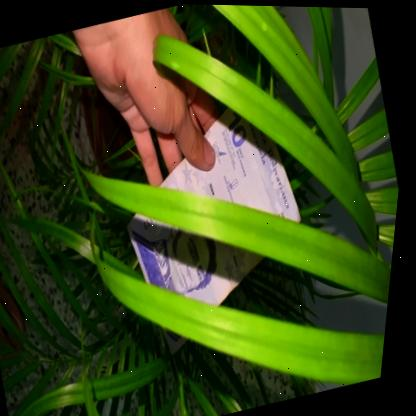ten-front-vef: (93, 81, 342, 359)
